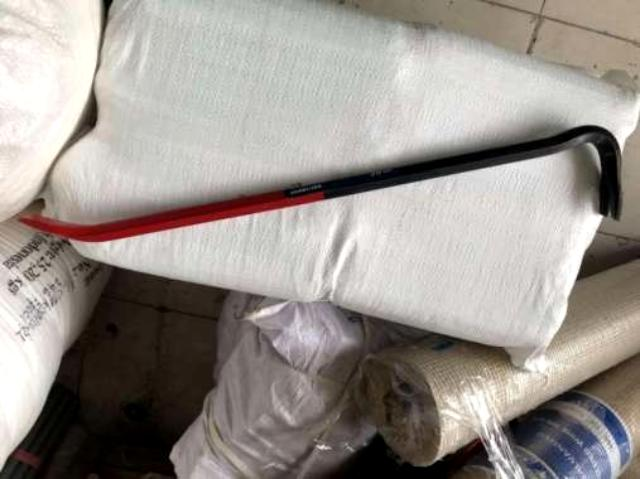crow bar: (9, 121, 625, 249)
